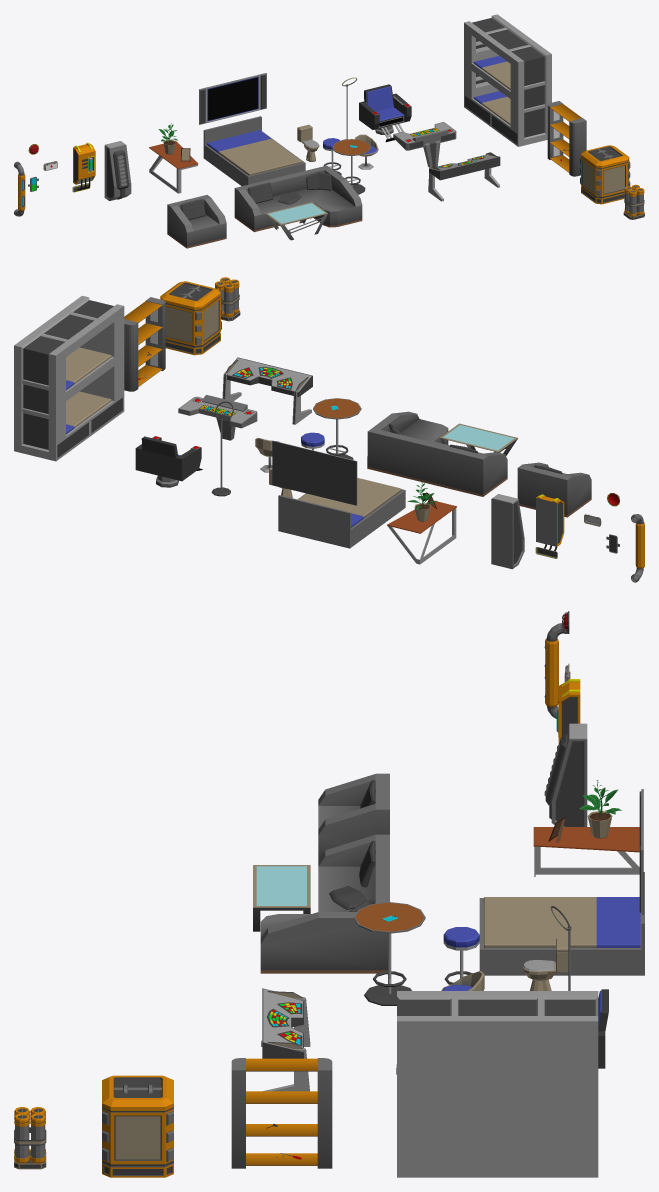
Rendered from SpaceShipProps00.fbx.
3 renders of one model, top to bottom at view 1: azimuth 30°, elevation 25°; view 2: azimuth 150°, elevation 25°; view 3: azimuth 270°, elevation 25°, orthographic. The views are drawn at different scales.
Visible parts, largest first — view 1: BedCrew00, Couch00, BedCaptain00, Crate00, Couch01, ScreenWall00, Shelf00, CaptainSeat00, WallPanel00, Console01, Console00, CouchTable00 (+7 smaller); view 2: BedCrew00, Couch00, BedCaptain00, ScreenWall00, Crate00, Shelf00, Couch01, Console01, CaptainSeat00, WallPanel00, Console00, CabinTable00 (+7 smaller); view 3: BedCrew00, BedCaptain00, Couch00, Crate00, Shelf00, Couch01, Console01, WallPanel00, CabinTable00, CouchTable00, BarTable00, Canister00 (+5 smaller).
Boxes of the visible parts, x1,y1,x2,y2 form: BedCrew00: (464, 14, 551, 146); Couch00: (234, 165, 362, 232); BedCaptain00: (203, 116, 305, 185); Crate00: (580, 145, 630, 204); Couch01: (167, 195, 226, 248); ScreenWall00: (199, 73, 266, 124); Shelf00: (547, 101, 586, 176); CaptainSeat00: (359, 84, 411, 142); WallPanel00: (104, 141, 131, 200); Console01: (428, 152, 500, 201); Console00: (393, 122, 456, 167); CouchTable00: (265, 202, 327, 240); BedCrew00: (14, 295, 124, 461); Couch00: (367, 411, 507, 496); BedCaptain00: (278, 478, 405, 548); ScreenWall00: (272, 440, 357, 505); Crate00: (160, 281, 221, 355); Shelf00: (124, 297, 165, 391); Couch01: (517, 462, 591, 517); Console01: (222, 357, 312, 424); CaptainSeat00: (135, 436, 202, 487); WallPanel00: (491, 494, 524, 569); Console00: (178, 395, 257, 440); CabinTable00: (387, 500, 456, 564); BedCrew00: (397, 991, 598, 1177); BedCaptain00: (479, 872, 644, 975); Couch00: (260, 834, 389, 973); Crate00: (102, 1075, 173, 1177); Shelf00: (231, 1058, 332, 1168); Couch01: (318, 773, 389, 859); Console01: (261, 988, 310, 1091); WallPanel00: (544, 723, 587, 826); CabinTable00: (533, 827, 639, 876); CouchTable00: (253, 865, 310, 931); BarTable00: (353, 902, 425, 1005); Canister00: (14, 1107, 46, 1169).
Size of the model in its own units: 14.59 by 2.4 by 8.77.
